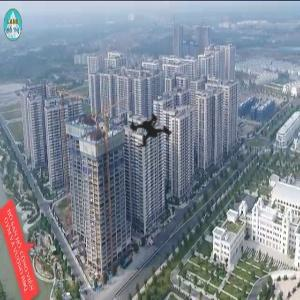drone: (93, 76, 210, 193)
